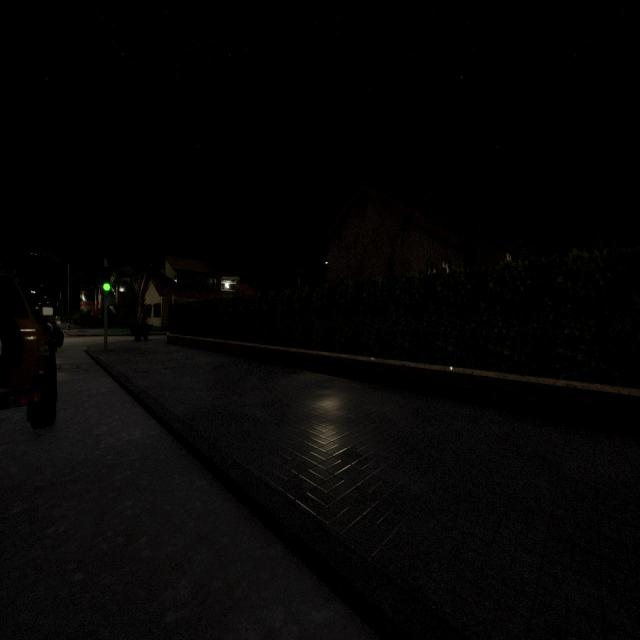Vehicle: (0, 271, 57, 429)
traffic_light: (102, 263, 111, 294)
